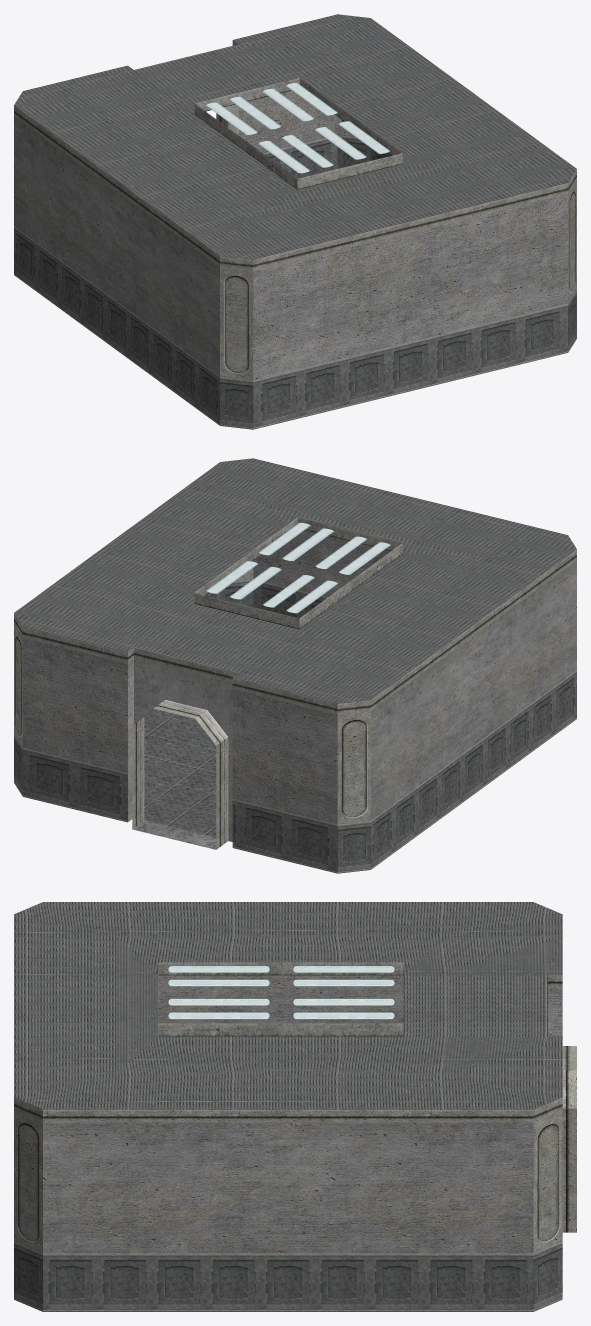
The model's file is mun_tato_guild_combat_s01_r6_meetingb_mesh_meetingb.fbx.
3 renders of one model, top to bottom at view 1: azimuth 30°, elevation 25°; view 2: azimuth 150°, elevation 25°; view 3: azimuth 270°, elevation 25°, orthographic. The views are drawn at different scales.
Parts seen in each view (by area): view 1: mesh_node; view 2: mesh_node; view 3: mesh_node.
Boxes of the visible parts, x1,y1,x2,y2 form: mesh_node: [14, 14, 576, 429]; mesh_node: [14, 458, 576, 873]; mesh_node: [14, 902, 576, 1311].
Bounding box in the file's own units: 8.5 × 4.12 × 9.75.
